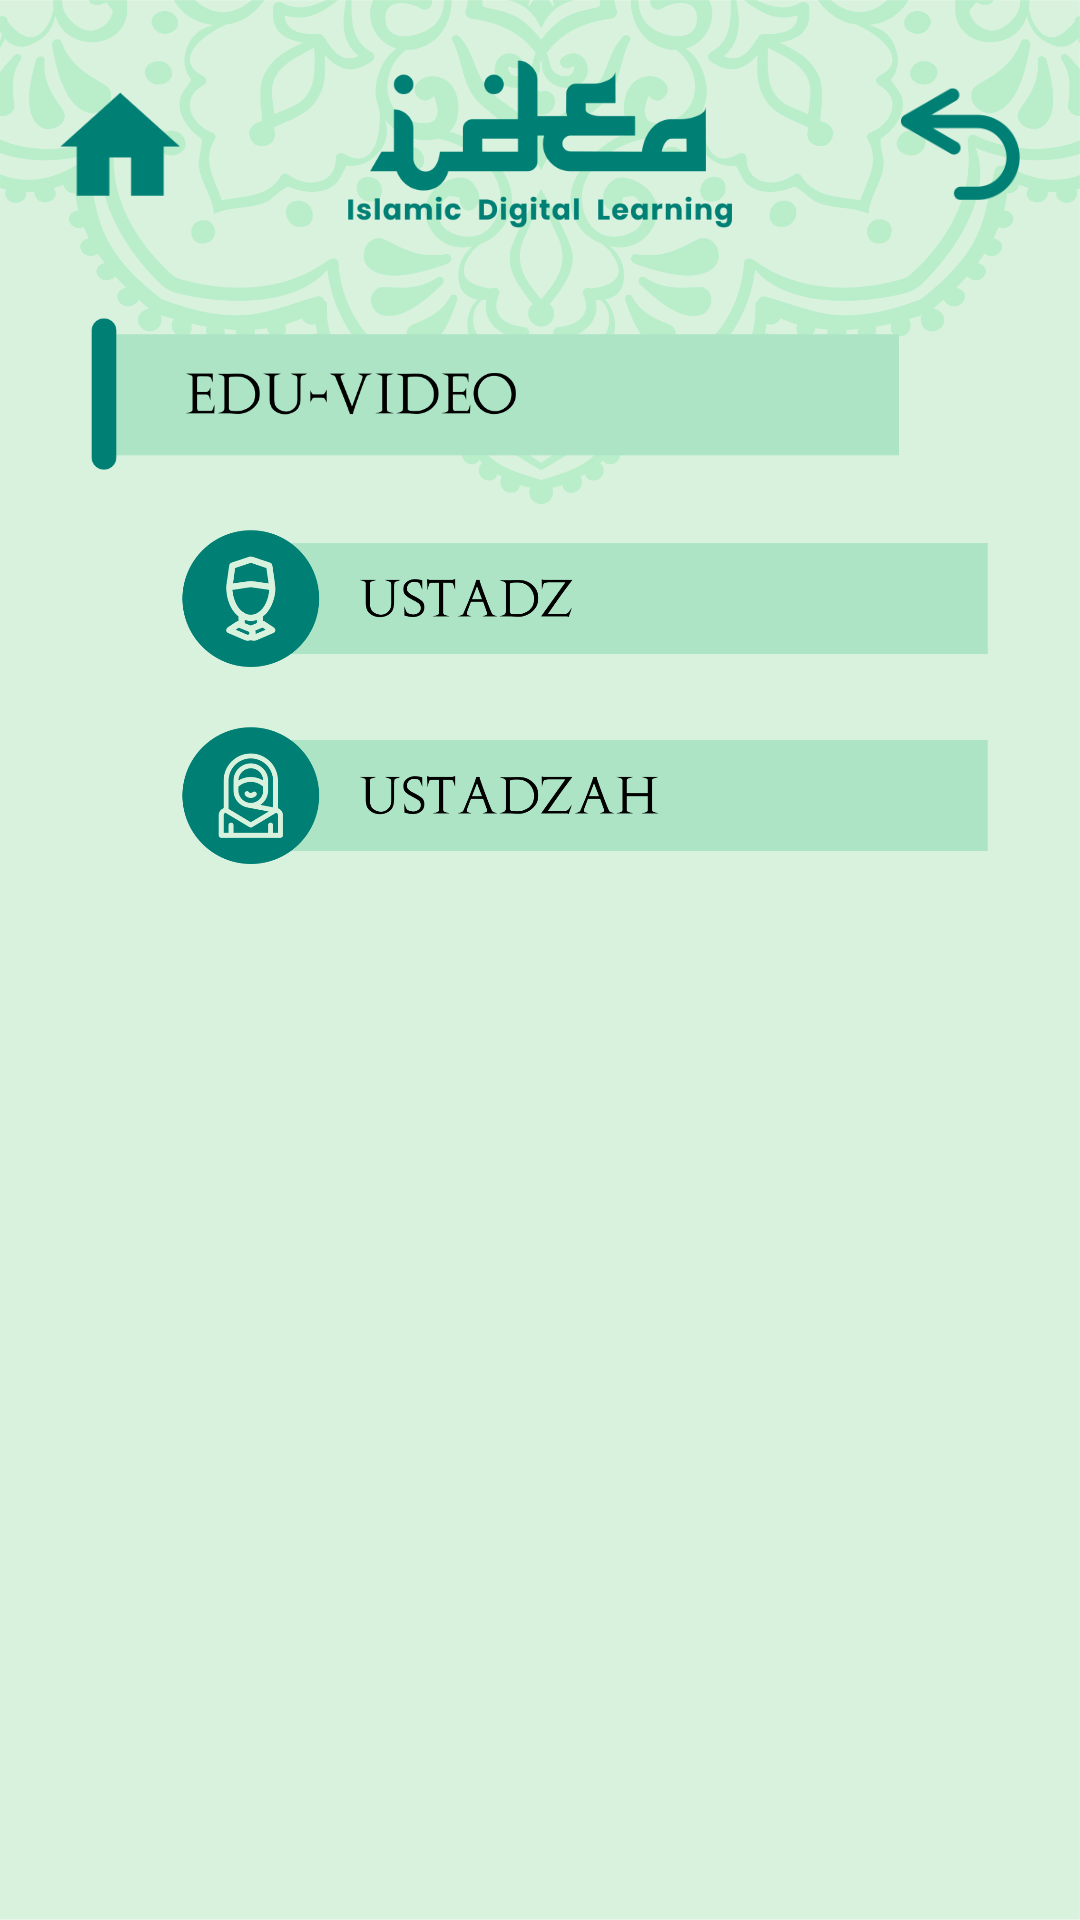

Where icons sit on this 1080x1920 app screen, as (x1, y1, x2, y2):
back: (900, 84, 1020, 204)
home: (60, 84, 180, 204)
